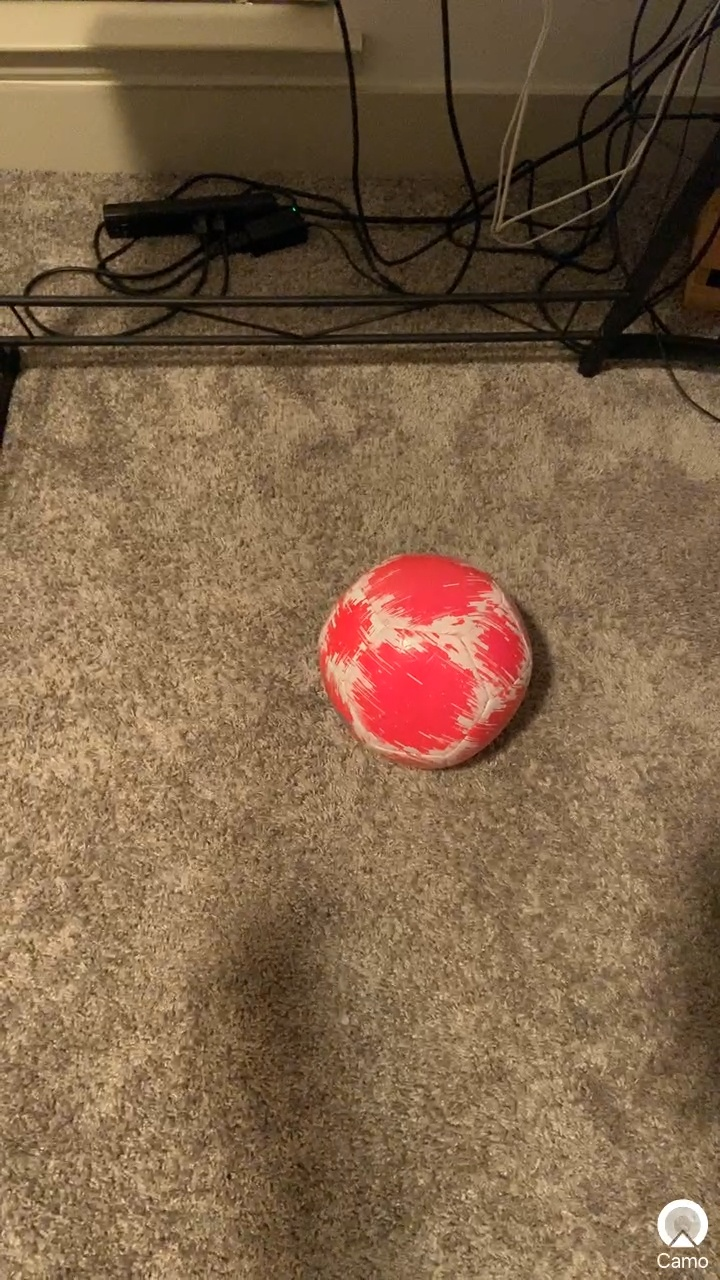Soccer_Ball: (290, 536, 571, 794)
